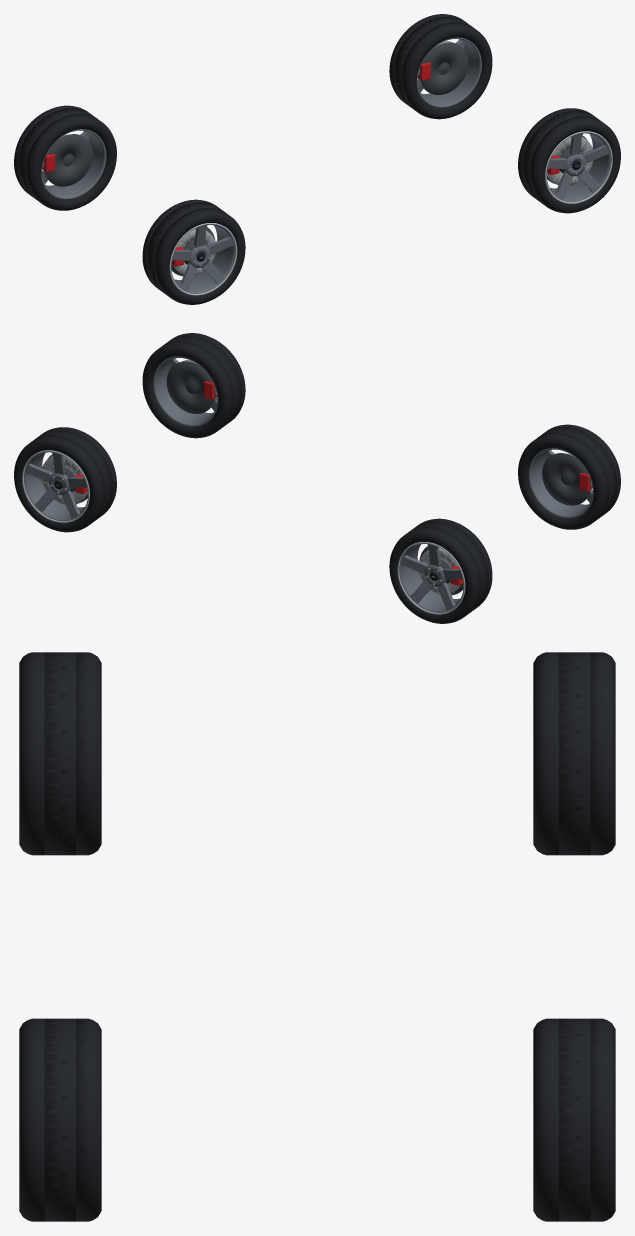
The model's file is modular-wheels.glb.
The picture shows the model from 3 angles, top to bottom: view 1: azimuth 30°, elevation 25°; view 2: azimuth 150°, elevation 25°; view 3: azimuth 270°, elevation 25°; orthographic projection. The views are drawn at different scales.
Parts seen in each view (by area): view 1: S6.FR.Tyre | road, S6.RR.Tyre | road, S6.RL.Tyre | road, S6.FL.Tyre | road, S6.FL.Tyre | track, S6.RR.Tyre | track, S6.RL.Tyre | track, S6.FR.Tyre | track, S6.RR.Brake | backing shield, S6.FR.Brake | backing shield, S6.RR.Rim | barrel, S6.FR.Rim | barrel (+8 smaller); view 2: S6.FL.Tyre | road, S6.RL.Tyre | road, S6.RR.Tyre | road, S6.FR.Tyre | road, S6.FL.Tyre | track, S6.RL.Tyre | track, S6.RR.Tyre | track, S6.FR.Tyre | track, S6.RL.Brake | backing shield, S6.FL.Brake | backing shield, S6.RL.Rim | barrel, S6.FL.Rim | barrel (+8 smaller); view 3: S6.FL.Tyre | track, S6.FR.Tyre | track, S6.RR.Tyre | track, S6.RL.Tyre | track, S6.RL.Tyre | road, S6.RR.Tyre | road, S6.FL.Tyre | road, S6.FR.Tyre | road.
Boxes of the visible parts, x1=… form: S6.FR.Tyre | road: x1=389, y1=14, x2=492, y2=119; S6.RR.Tyre | road: x1=14, y1=105, x2=116, y2=210; S6.RL.Tyre | road: x1=142, y1=199, x2=245, y2=304; S6.FL.Tyre | road: x1=518, y1=108, x2=620, y2=213; S6.FL.Tyre | track: x1=518, y1=108, x2=615, y2=208; S6.RR.Tyre | track: x1=14, y1=106, x2=105, y2=206; S6.RL.Tyre | track: x1=142, y1=200, x2=233, y2=300; S6.FR.Tyre | track: x1=389, y1=14, x2=480, y2=118; S6.RR.Brake | backing shield: x1=44, y1=134, x2=92, y2=186; S6.FR.Brake | backing shield: x1=419, y1=42, x2=468, y2=94; S6.RR.Rim | barrel: x1=41, y1=129, x2=106, y2=199; S6.FR.Rim | barrel: x1=416, y1=37, x2=481, y2=107; S6.FL.Tyre | road: x1=142, y1=333, x2=245, y2=438; S6.RL.Tyre | road: x1=518, y1=424, x2=620, y2=529; S6.RR.Tyre | road: x1=389, y1=518, x2=492, y2=623; S6.FR.Tyre | road: x1=14, y1=427, x2=116, y2=532; S6.FL.Tyre | track: x1=152, y1=333, x2=245, y2=436; S6.RL.Tyre | track: x1=527, y1=424, x2=620, y2=528; S6.RR.Tyre | track: x1=398, y1=519, x2=492, y2=621; S6.FR.Tyre | track: x1=23, y1=427, x2=116, y2=530; S6.RL.Brake | backing shield: x1=542, y1=453, x2=590, y2=505; S6.FL.Brake | backing shield: x1=166, y1=361, x2=215, y2=413; S6.RL.Rim | barrel: x1=528, y1=448, x2=593, y2=518; S6.FL.Rim | barrel: x1=153, y1=356, x2=218, y2=426; S6.FL.Tyre | track: x1=28, y1=1018, x2=92, y2=1221; S6.FR.Tyre | track: x1=542, y1=1018, x2=606, y2=1221; S6.RR.Tyre | track: x1=542, y1=652, x2=606, y2=855; S6.RL.Tyre | track: x1=28, y1=652, x2=92, y2=855; S6.RL.Tyre | road: x1=19, y1=652, x2=101, y2=855; S6.RR.Tyre | road: x1=533, y1=652, x2=615, y2=855; S6.FL.Tyre | road: x1=19, y1=1018, x2=101, y2=1221; S6.FR.Tyre | road: x1=533, y1=1018, x2=615, y2=1221.
Bounding box in the file's own units: 3.4 × 0.646 × 1.9.
